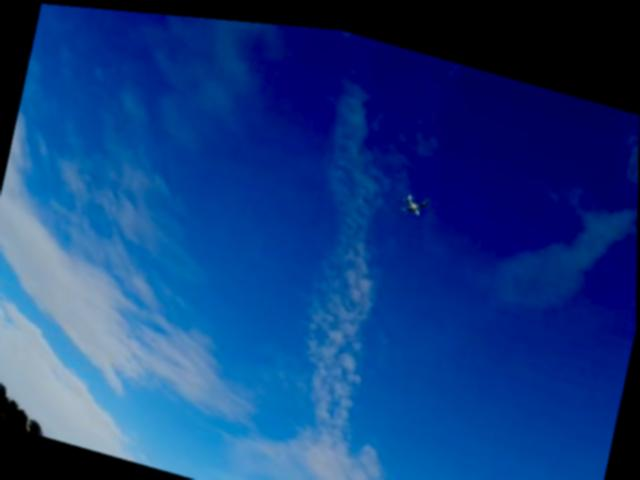uav: (392, 174, 436, 221)
